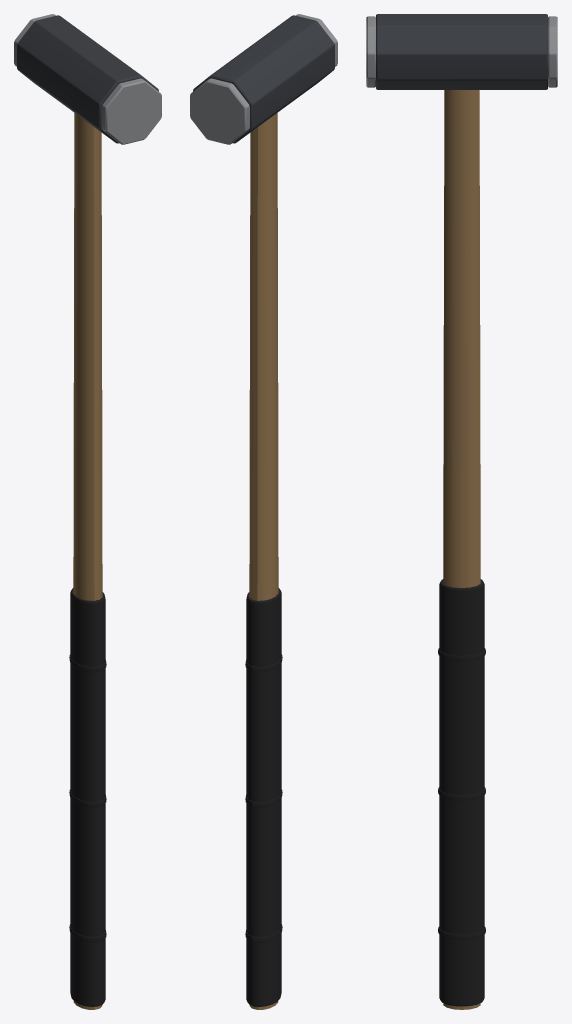
The model's file is wpn_melee_sledgehammer.glb.
3 renders of one model, left to right at view 1: azimuth 30°, elevation 25°; view 2: azimuth 150°, elevation 25°; view 3: azimuth 270°, elevation 25°, orthographic. The views are drawn at different scales.
Parts seen in each view (by area): view 1: Grip, Handle, Head; view 2: Grip, Handle, Head; view 3: Grip, Handle, Head.
Part boxes in pixels (<box>): Grip: <box>69,588,106,1006</box>; Handle: <box>73,113,102,1009</box>; Head: <box>14,14,161,144</box>; Grip: <box>245,588,282,1006</box>; Handle: <box>249,113,278,1009</box>; Head: <box>190,14,337,144</box>; Grip: <box>438,579,485,1006</box>; Handle: <box>443,90,480,1009</box>; Head: <box>366,14,557,89</box>.
Bounding box in the file's own units: 0.06 × 0.91 × 0.16.
